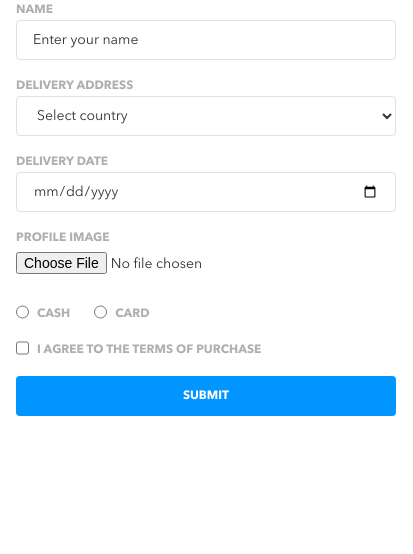
Test: Form › Checking error for first capital letter
Type "smith" into the field with placeholder "Enter your name". click: (206, 40)
box: [16,20,396,60]
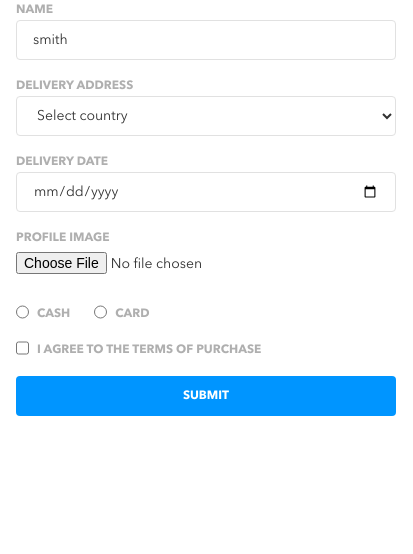
Click the button "Submit". click: (206, 396)
box: [16,376,396,416]
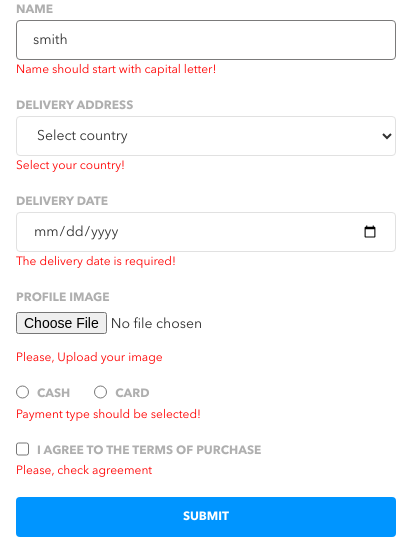
Now the text "Name should start with capital letter!" is shown, box [16,64,216,76]
